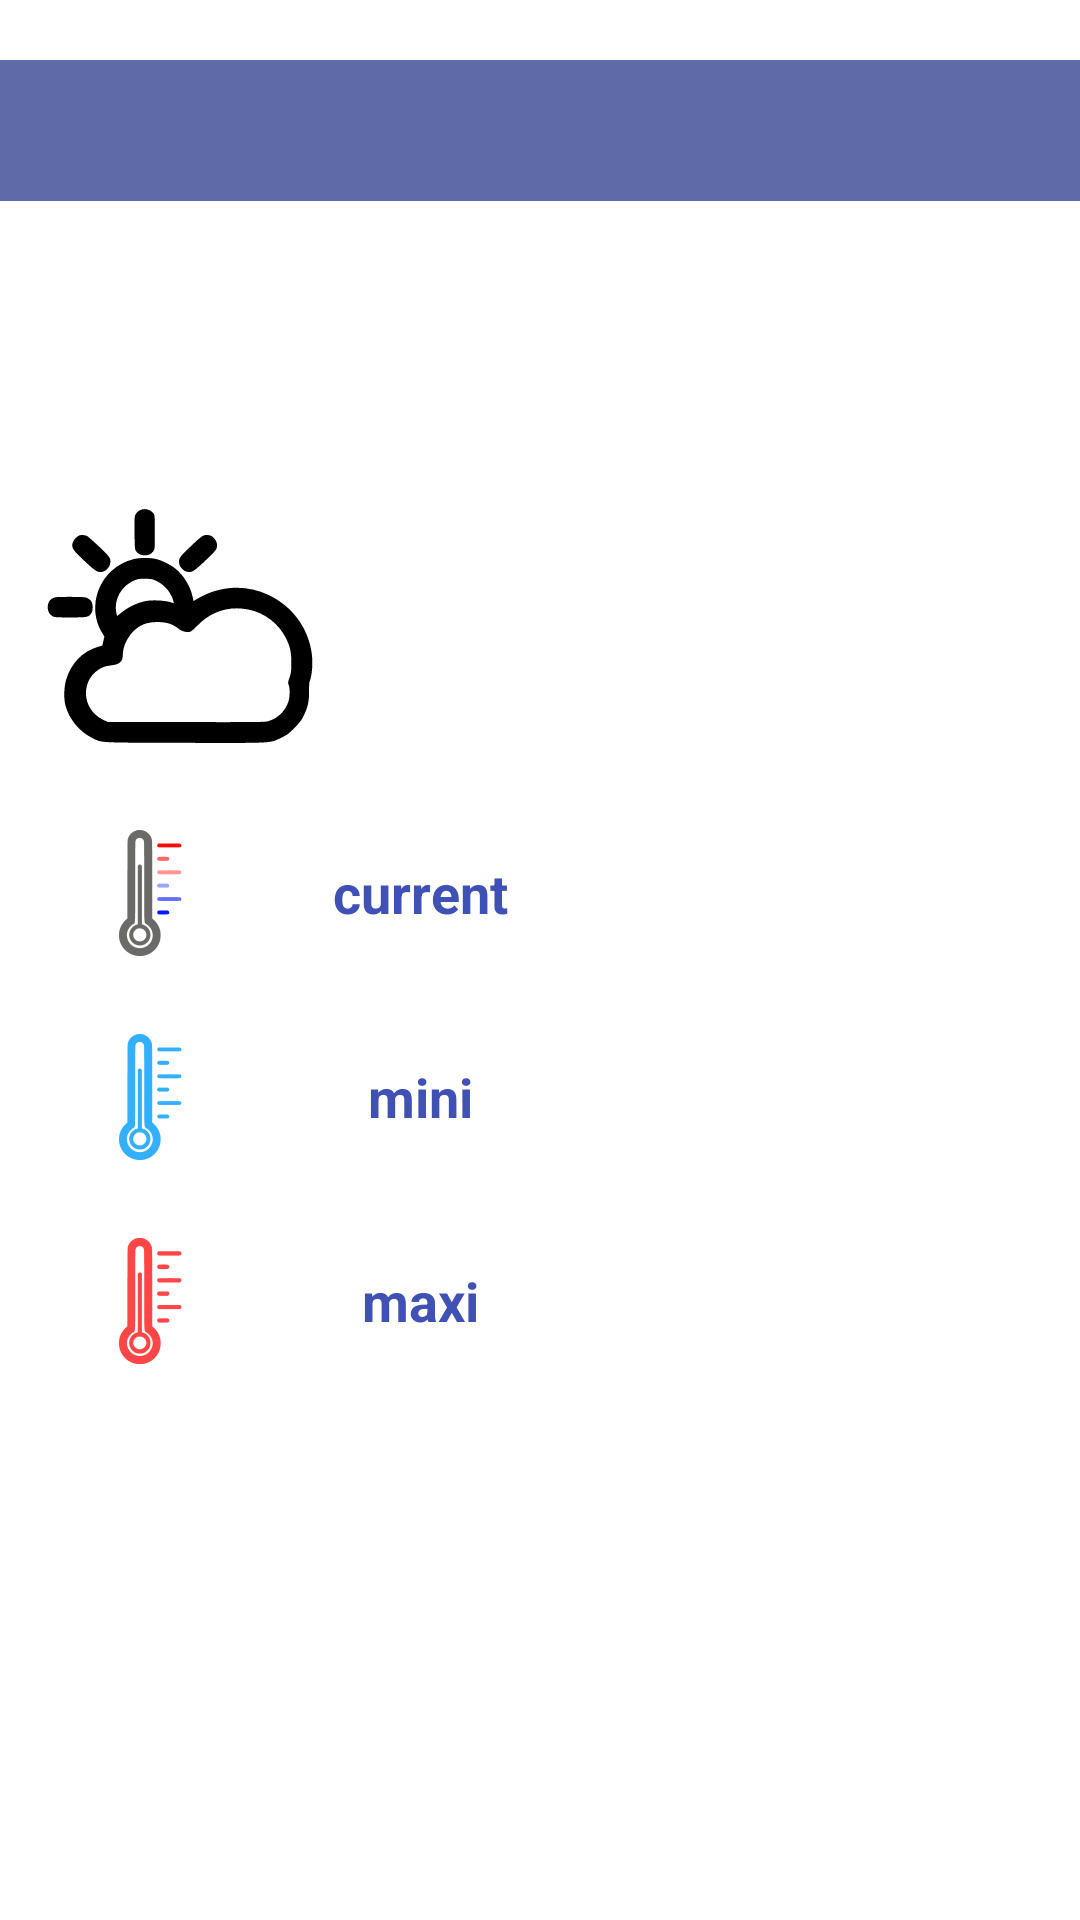

Where to tap for icons on this 1080*1920 app screen, as (x,y):
meteo: (180,626)
